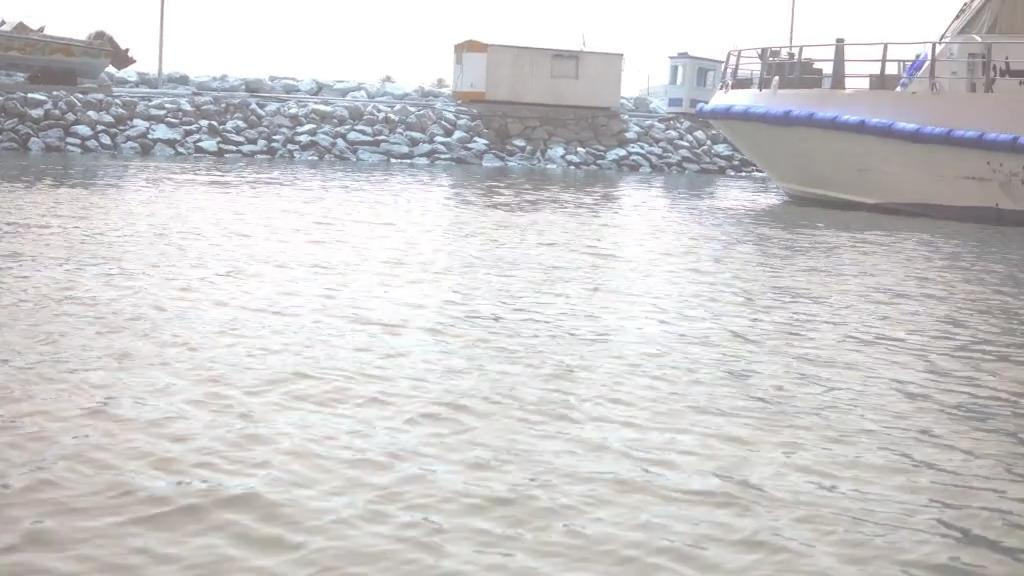PassengerShip: (699, 0, 1023, 226)
